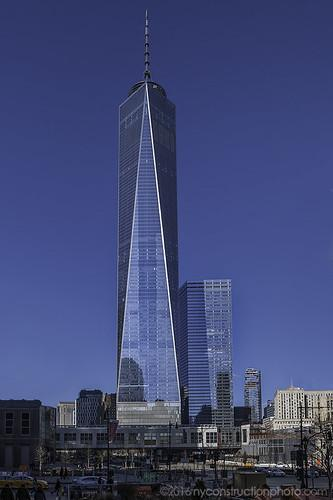building: (110, 73, 186, 449), (180, 271, 240, 451)
